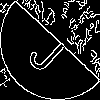J: (25, 25, 74, 76)
